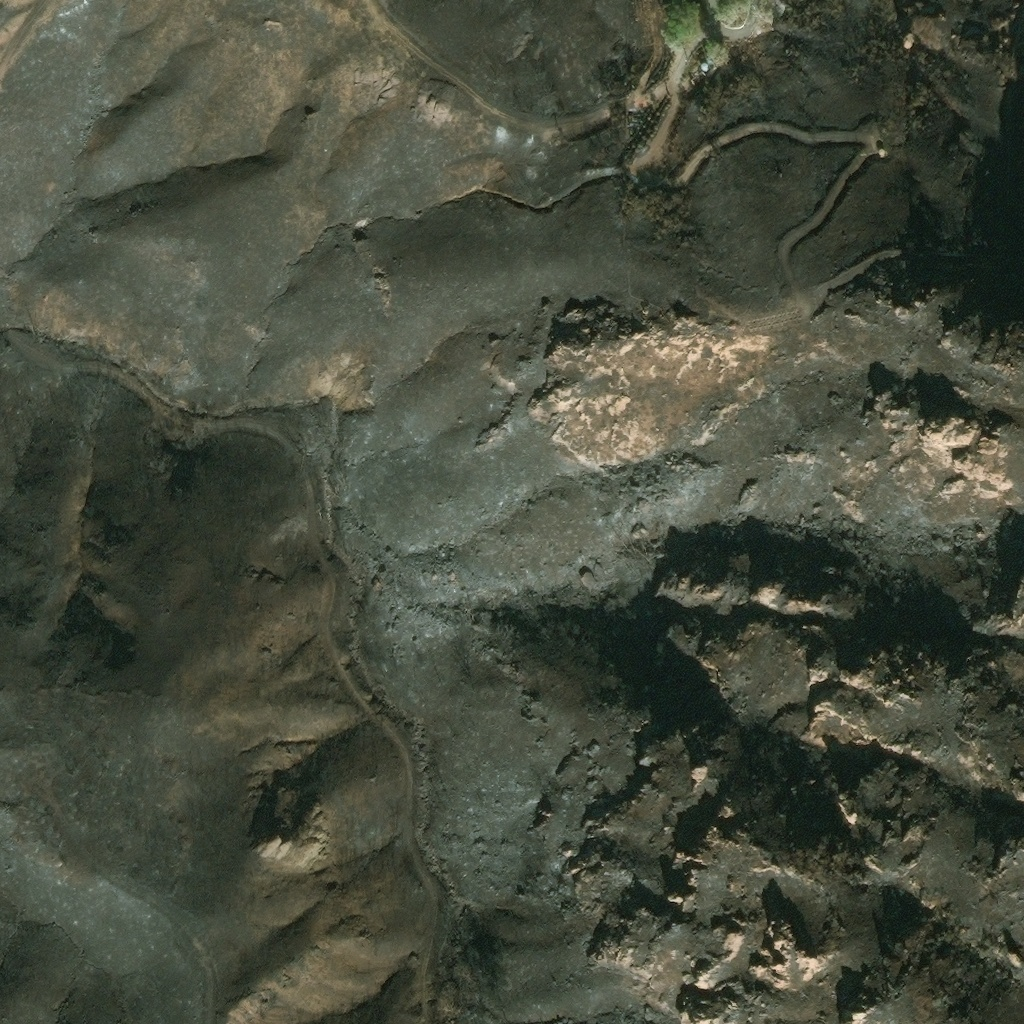3 destroyed: (691, 71, 709, 88), (700, 63, 711, 74), (878, 148, 887, 156), (705, 56, 711, 64)
